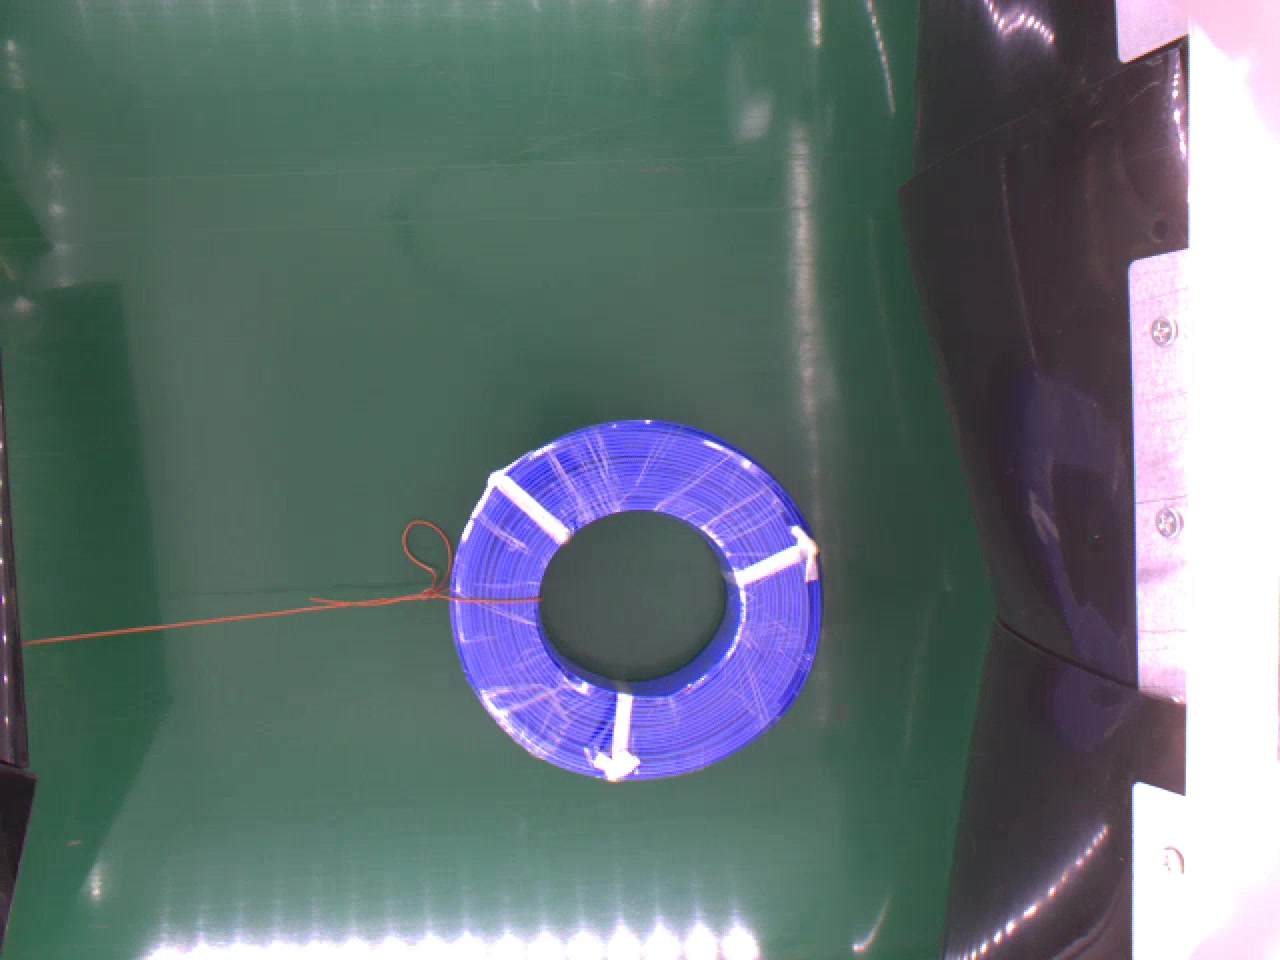blue: (444, 413, 823, 787)
